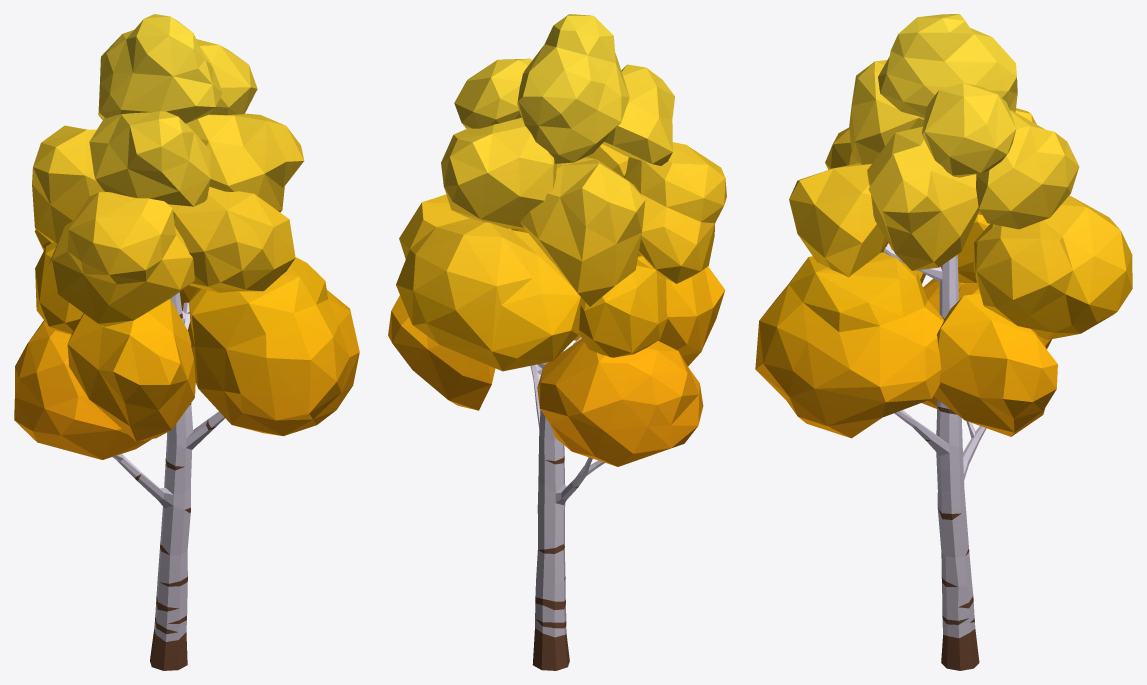
File: Tree_Birch_02.fbx
3 renders of one model, left to right at view 1: azimuth 30°, elevation 25°; view 2: azimuth 150°, elevation 25°; view 3: azimuth 270°, elevation 25°, orthographic. The views are drawn at different scales.
Visible parts, largest first — view 1: Tree_Birch_02; view 2: Tree_Birch_02; view 3: Tree_Birch_02.
Part boxes in pixels (x1,y1,x2,y2): Tree_Birch_02: (14, 14, 359, 670); Tree_Birch_02: (388, 14, 726, 670); Tree_Birch_02: (755, 14, 1132, 670).
Bounding box in the file's own units: 371 × 815 × 434.
